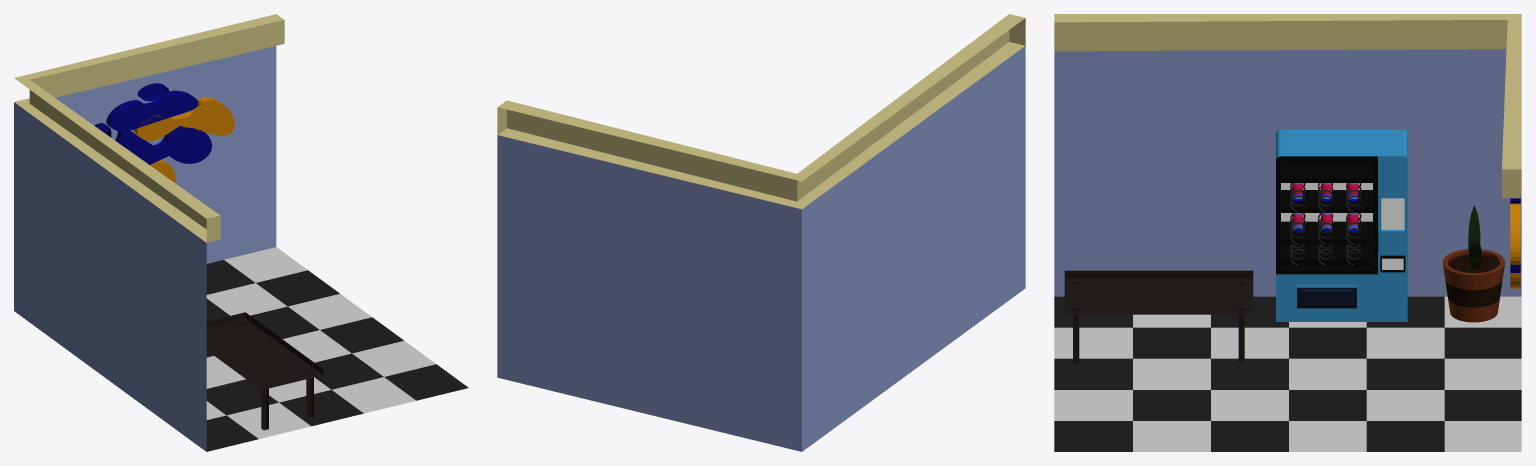
Rendered from Allanim0011.obj.
3 renders of one model, left to right at view 1: azimuth 30°, elevation 25°; view 2: azimuth 150°, elevation 25°; view 3: azimuth 270°, elevation 25°, orthographic. The views are drawn at different scales.
Parts seen in each view (by area): view 1: ruangan_Cube.003, meja_Cube.004, logo.001_Circle.019, logo_Circle.006, logo.005_Circle.023; view 2: ruangan_Cube.003; view 3: ruangan_Cube.003, vending_machine_Cube.001, meja_Cube.004, pot_bunga_Cylinder, per_second\_Spiral.010, Plane.007, logo_Circle.006.
Boxes of the visible parts, x1,y1,x2,y2 form: ruangan_Cube.003: (14, 14, 468, 451); meja_Cube.004: (206, 312, 323, 430); logo.001_Circle.019: (115, 126, 212, 164); logo_Circle.006: (133, 97, 234, 141); logo.005_Circle.023: (106, 90, 198, 133); ruangan_Cube.003: (497, 14, 1025, 451); ruangan_Cube.003: (1054, 14, 1521, 451); vending_machine_Cube.001: (1276, 130, 1407, 321); meja_Cube.004: (1064, 270, 1253, 364); pot_bunga_Cylinder: (1442, 249, 1505, 322); per_second\_Spiral.010: (1290, 183, 1361, 265); Plane.007: (1468, 206, 1481, 268); logo_Circle.006: (1510, 203, 1520, 264).
Size of the model in its own units: 11.73 by 9.95 by 14.9.
